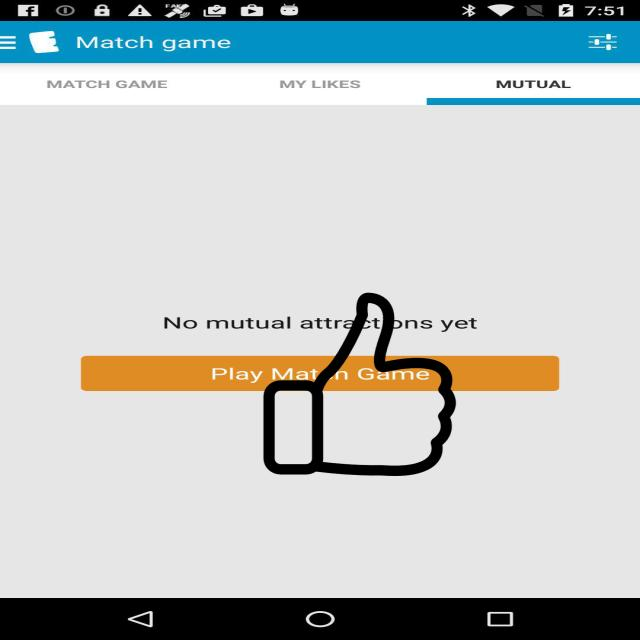privacy zuckering: (261, 293, 458, 476)
